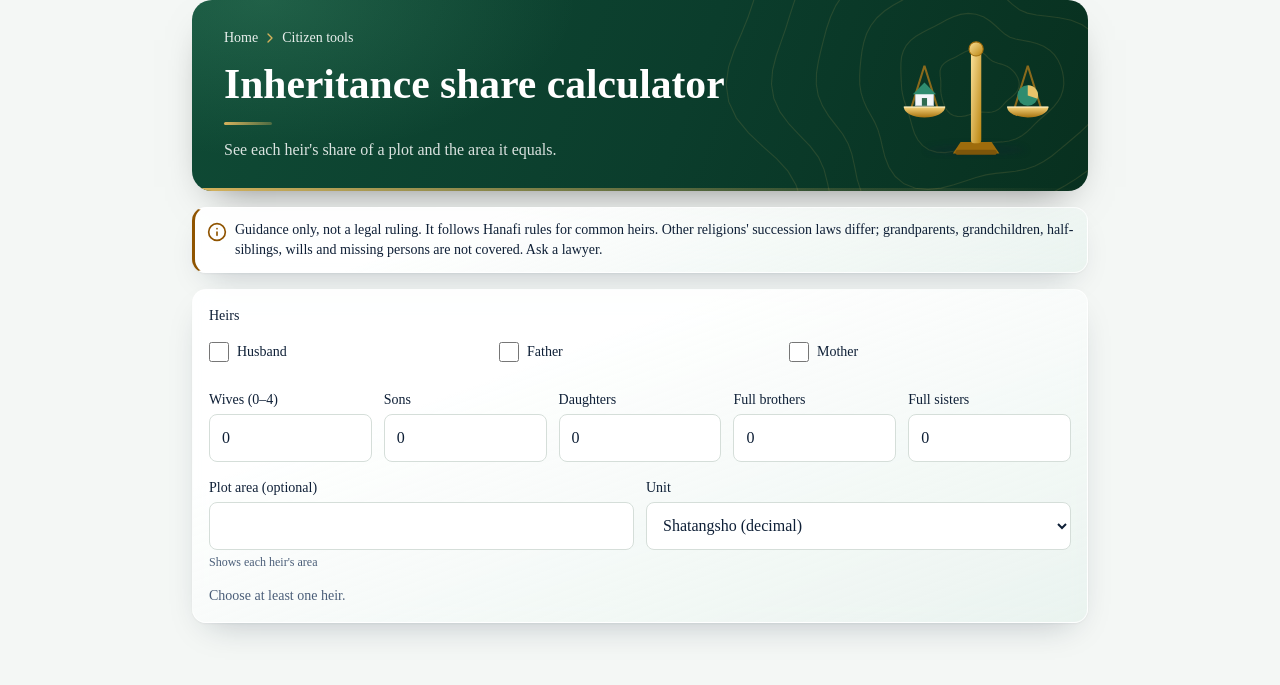
it: inheritance calculator › shows awl note, area and blocks husband + wives
The image size is (1280, 685).
Click the checkbox labelled "Husband". click: (219, 352)
box: top-left (209, 342), bottom-right (229, 362)
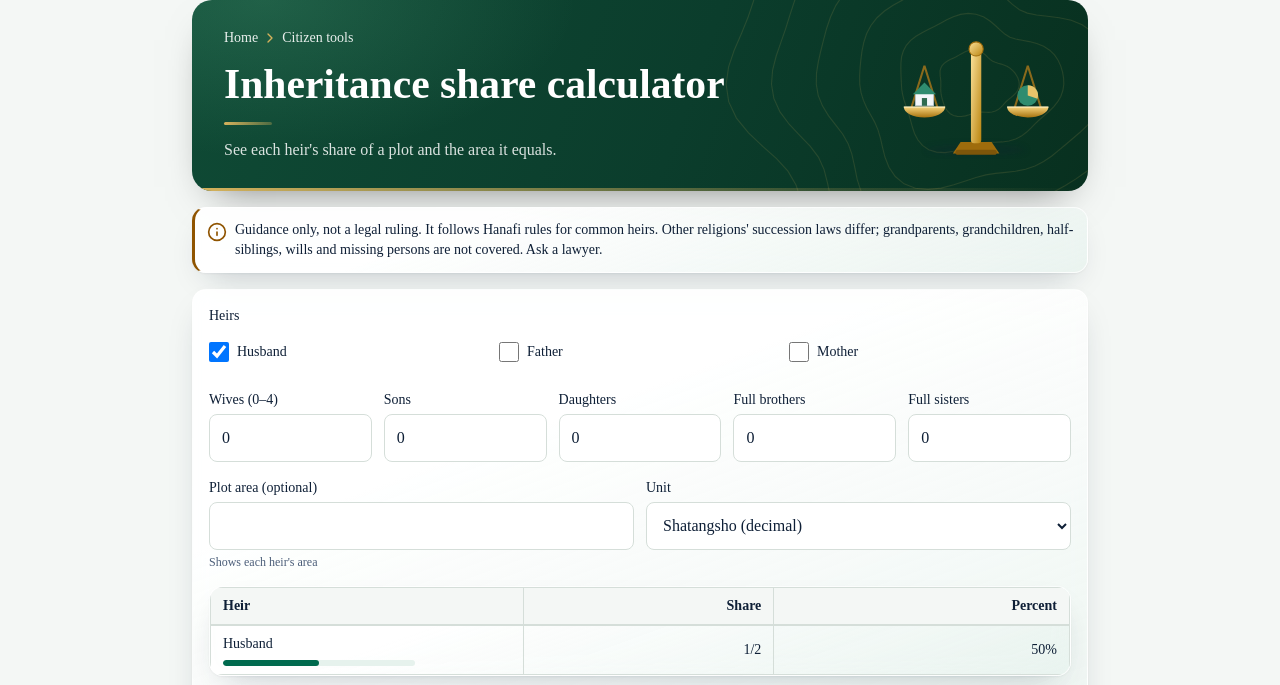
Replace the text in the number field labelled "Daughters" with "2". click: (640, 438)
box: top-left (559, 414), bottom-right (721, 462)
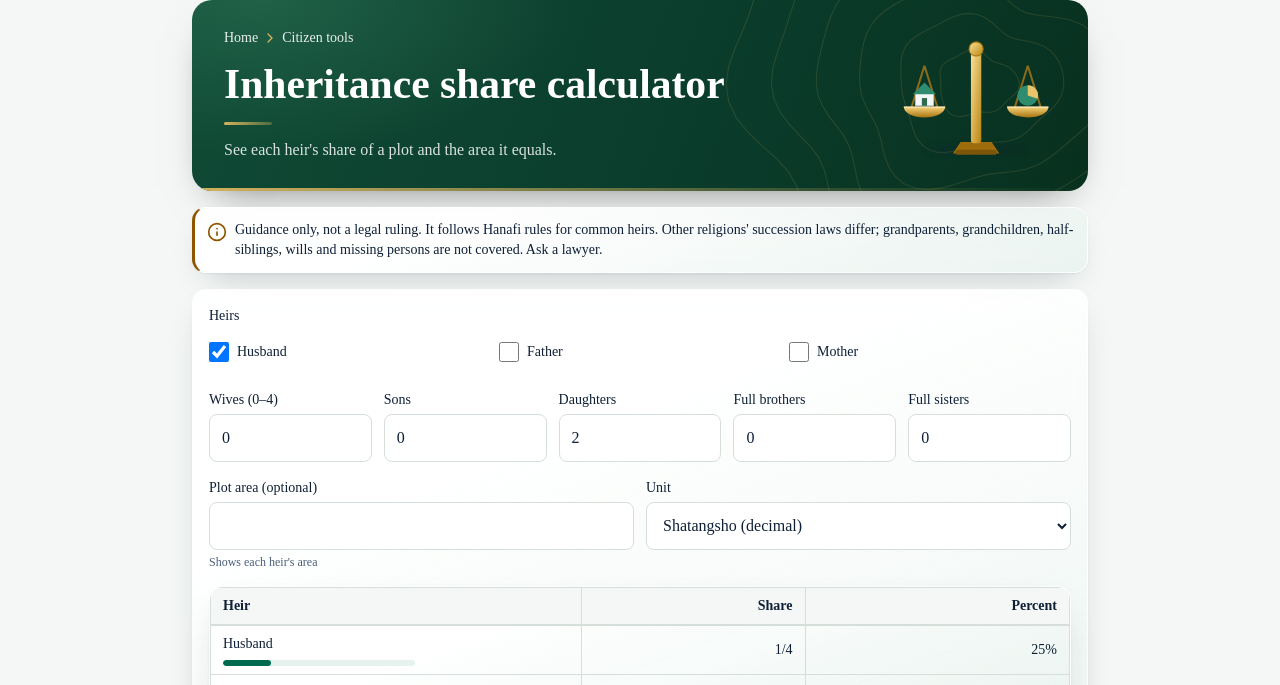
Click the checkbox labelled "Mother". click: (799, 352)
box: top-left (789, 342), bottom-right (809, 362)
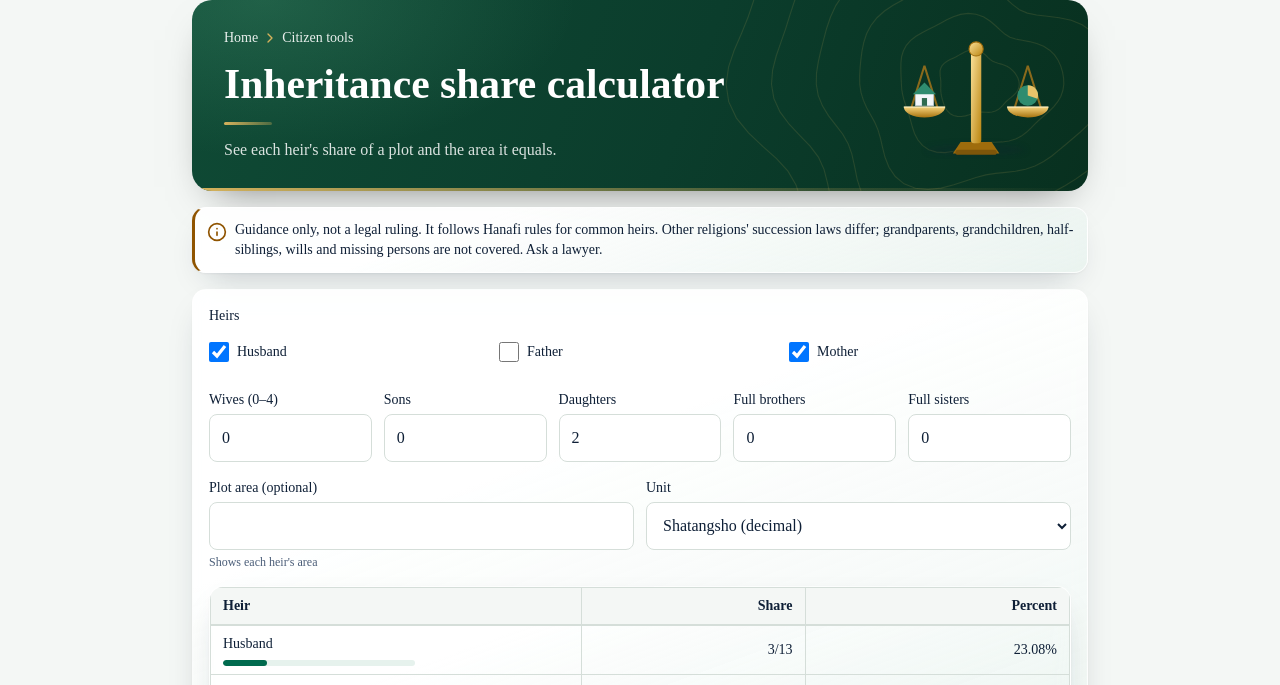
Type "130" into the field labelled "Plot area (optional)". click: (422, 526)
box: top-left (209, 502), bottom-right (634, 550)
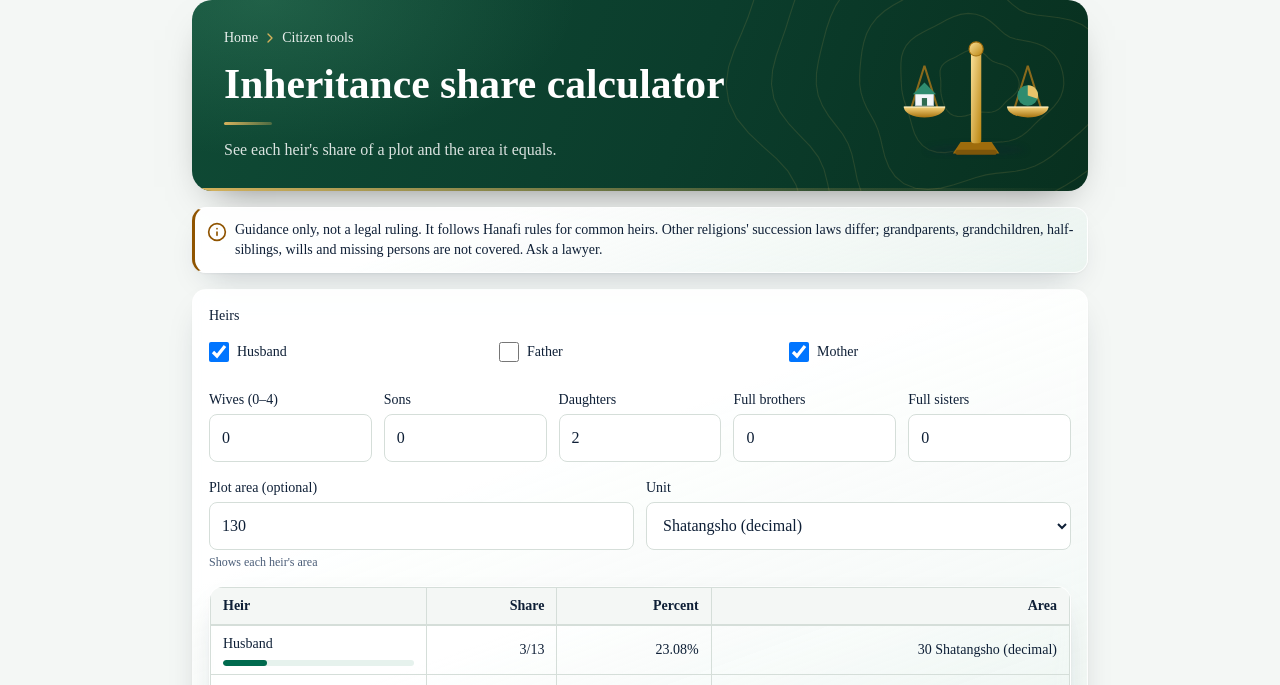
Check: the text "Husband" shows "3/13", box top-left (520, 642), bottom-right (544, 657)
Replace the text in the number field labelled "Wives (0–4)" with "1". click: (290, 438)
box: top-left (209, 414), bottom-right (372, 462)
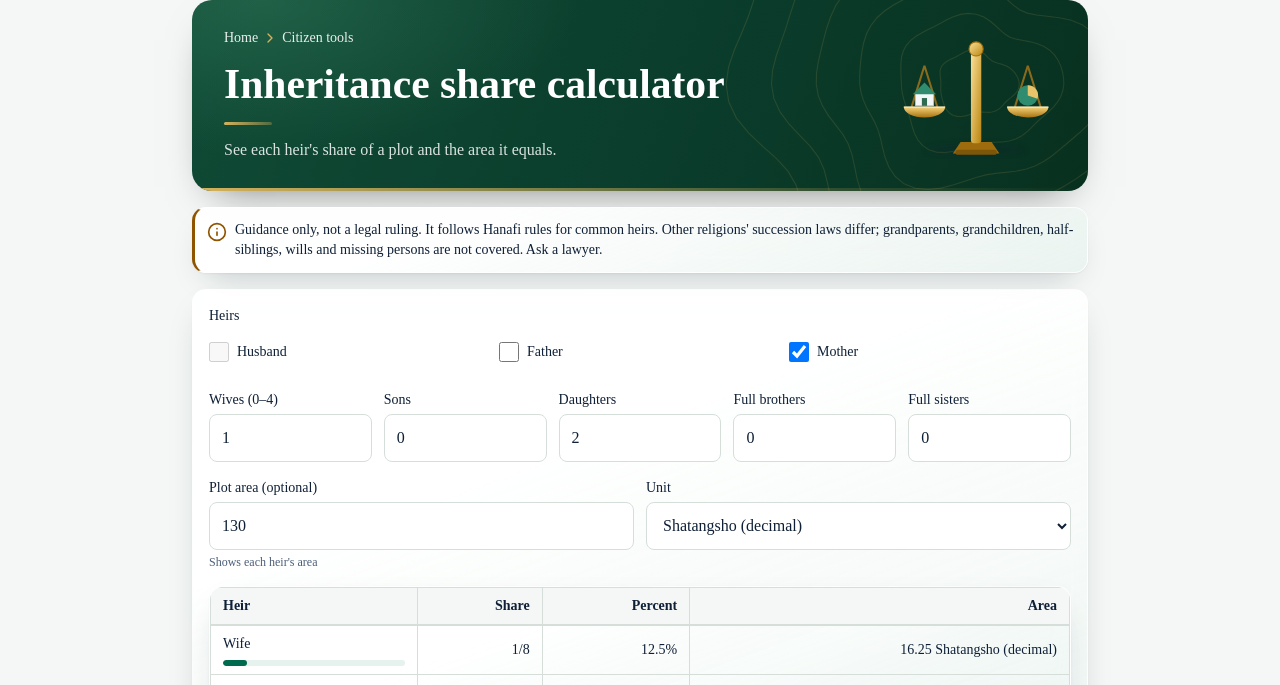
Check: the checkbox labelled "Husband" is disabled, box top-left (209, 342), bottom-right (229, 362)
